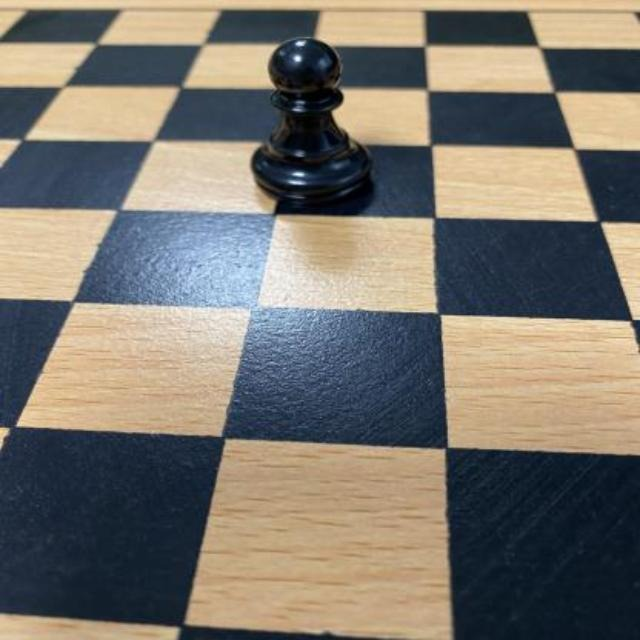black-pawn: (247, 38, 376, 204)
